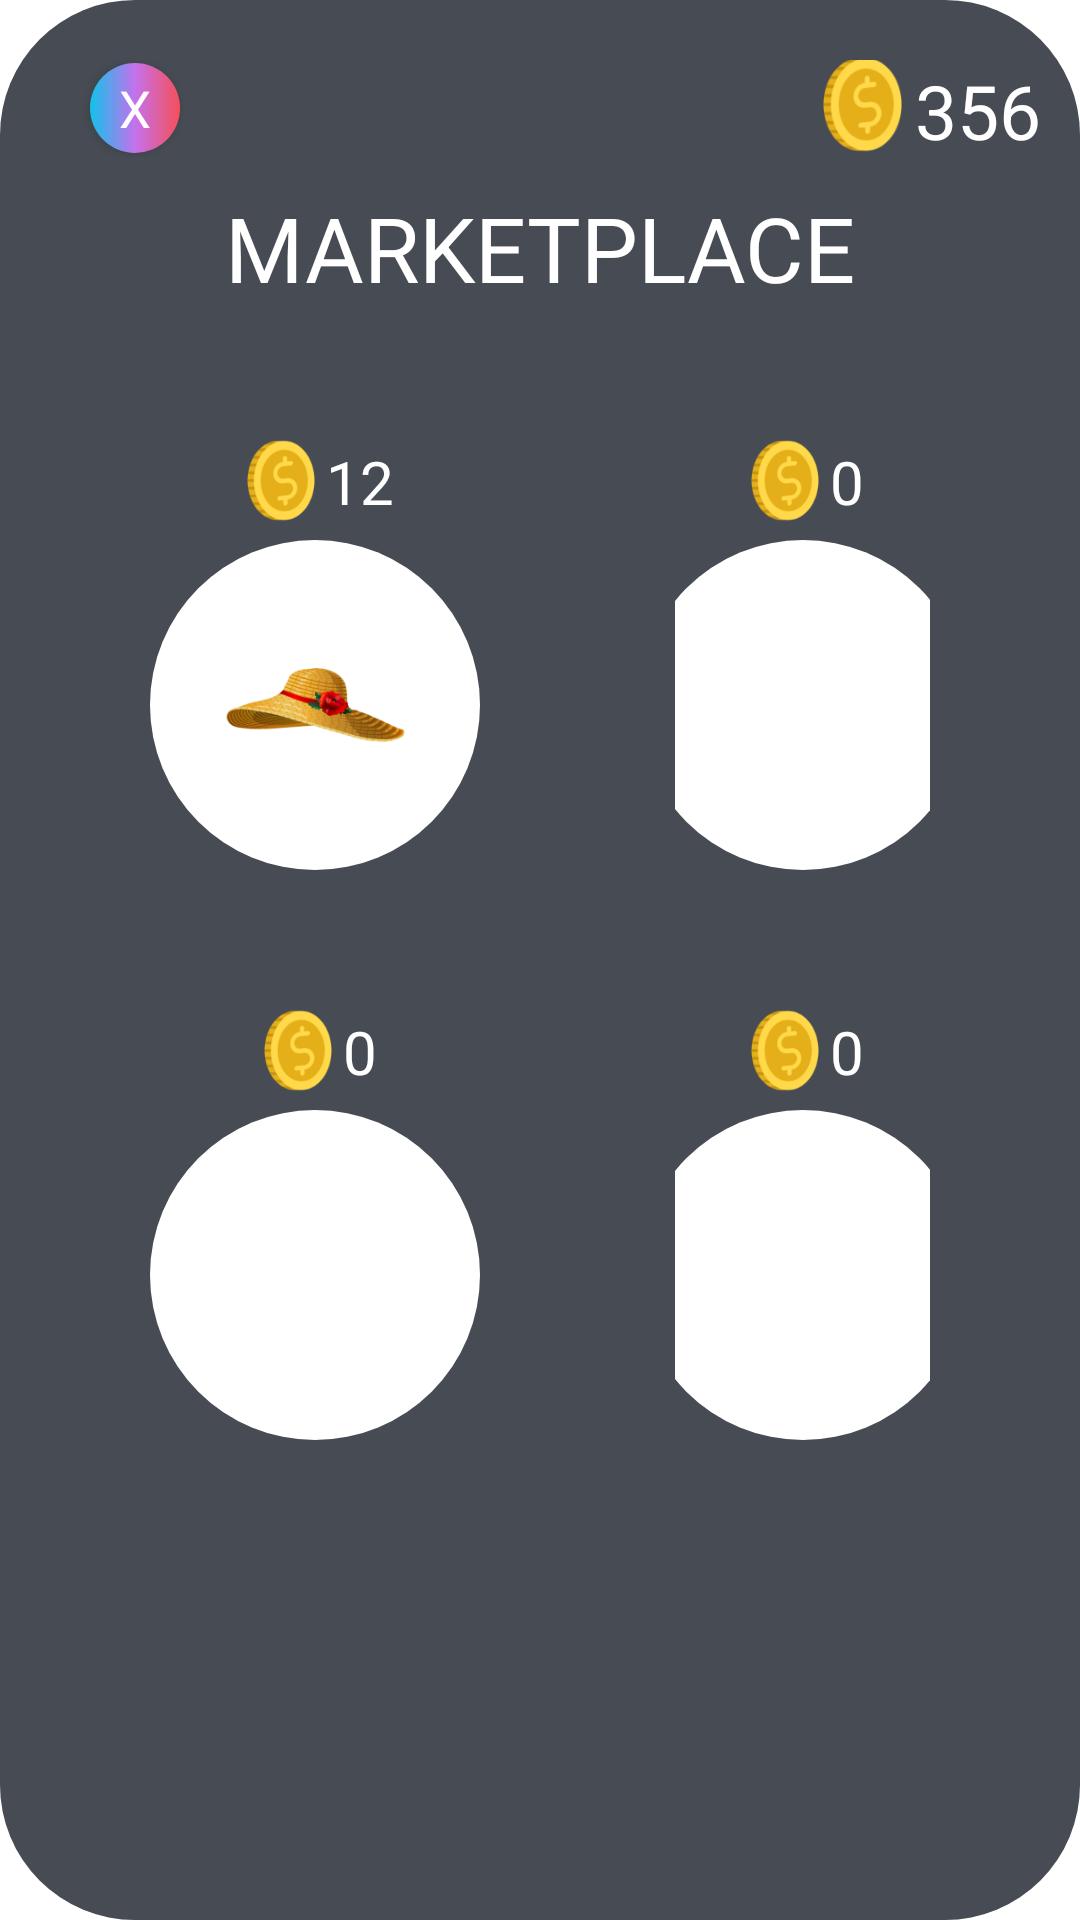

Named icons in this screenshot (1080×1920) and their centers, (x=x, y=y):
coin: (x=862, y=105), (x=281, y=480), (x=785, y=480), (x=298, y=1050), (x=785, y=1050)
